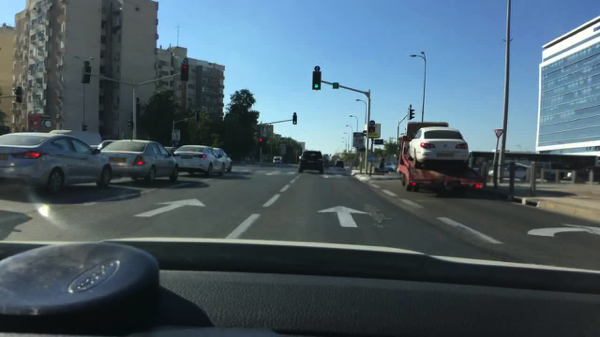bus: (468, 151, 598, 178)
car: (0, 132, 113, 196), (100, 139, 179, 184), (408, 128, 468, 165), (173, 143, 223, 180), (487, 164, 531, 181), (298, 150, 325, 174), (565, 165, 599, 183), (214, 147, 233, 174), (375, 161, 397, 173), (96, 141, 116, 151), (334, 160, 345, 169), (272, 155, 283, 164), (165, 146, 176, 154), (323, 158, 330, 169)
person: (378, 157, 387, 176)
traffic light: (312, 72, 322, 90), (81, 67, 90, 85), (15, 87, 23, 103), (194, 112, 200, 123), (408, 108, 414, 118), (127, 119, 133, 128), (81, 125, 88, 132), (294, 115, 298, 124), (259, 139, 263, 147)
traffic sign: (353, 133, 367, 150), (493, 128, 503, 139), (312, 66, 320, 72), (183, 58, 189, 63), (333, 83, 338, 89), (369, 121, 374, 126)
truck: (395, 122, 482, 194), (52, 129, 101, 146)
